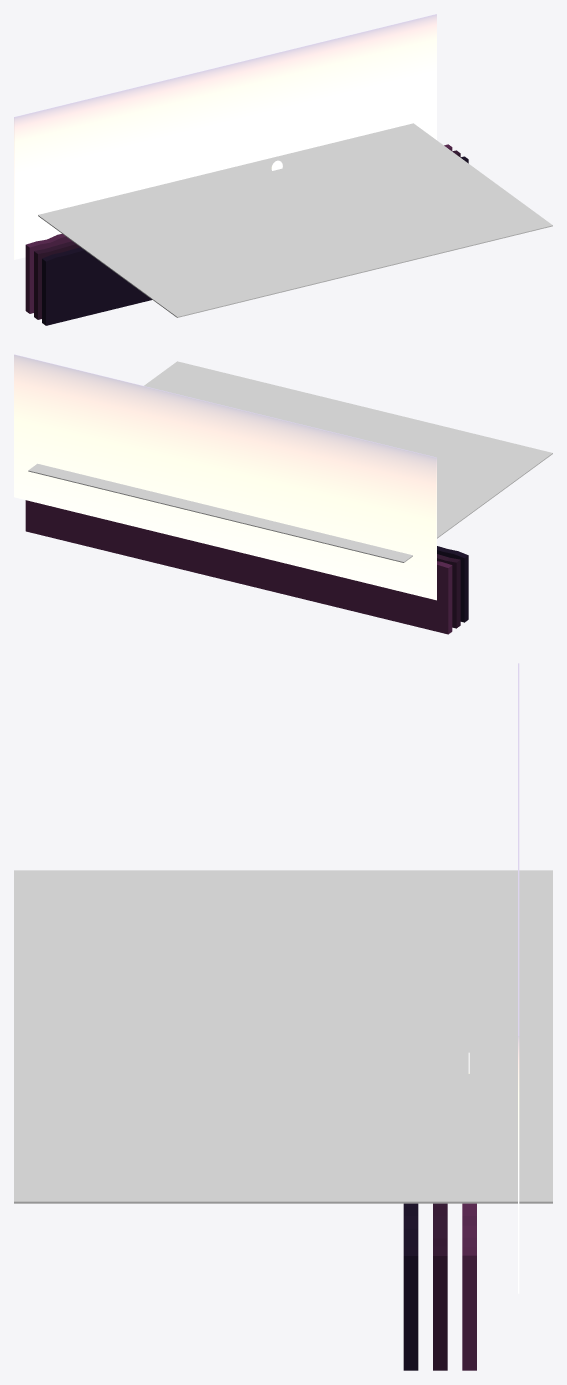
Rendered from sunsetfade.glb.
3 renders of one model, top to bottom at view 1: azimuth 30°, elevation 25°; view 2: azimuth 150°, elevation 25°; view 3: azimuth 270°, elevation 25°, orthographic. The views are drawn at different scales.
Visible parts, largest first — view 1: Ground contact / transparent shadow receiver.016, Sky gradient / editable material.016, World / terrain and architecture.014; view 2: Sky gradient / editable material.016, Ground contact / transparent shadow receiver.016, World / terrain and architecture.014; view 3: Ground contact / transparent shadow receiver.016, World / terrain and architecture.014, Sky gradient / editable material.016.
Boxes of the visible parts, left/top/right/bottom form: Ground contact / transparent shadow receiver.016: left=38, top=123, right=552, bottom=317; Sky gradient / editable material.016: left=14, top=14, right=436, bottom=259; World / terrain and architecture.014: left=25, top=144, right=468, bottom=325; Sky gradient / editable material.016: left=14, top=354, right=436, bottom=600; Ground contact / transparent shadow receiver.016: left=28, top=361, right=552, bottom=562; World / terrain and architecture.014: left=25, top=500, right=468, bottom=634; Ground contact / transparent shadow receiver.016: left=14, top=870, right=552, bottom=1203; World / terrain and architecture.014: left=403, top=1203, right=476, bottom=1370; Sky gradient / editable material.016: left=518, top=663, right=519, bottom=1293.
Bounding box in the file's own units: 180 × 75.4 × 110.
